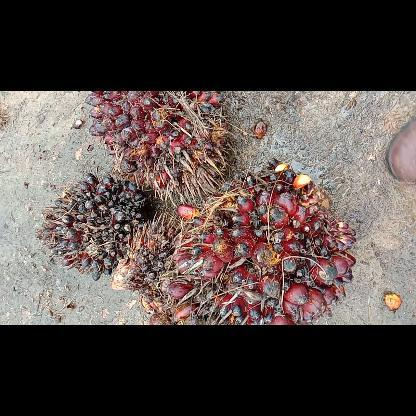Kurang masak: (110, 160, 356, 324)
TBS abnormal: (37, 174, 144, 280), (110, 212, 182, 310)
TBS masak: (84, 90, 233, 206)
